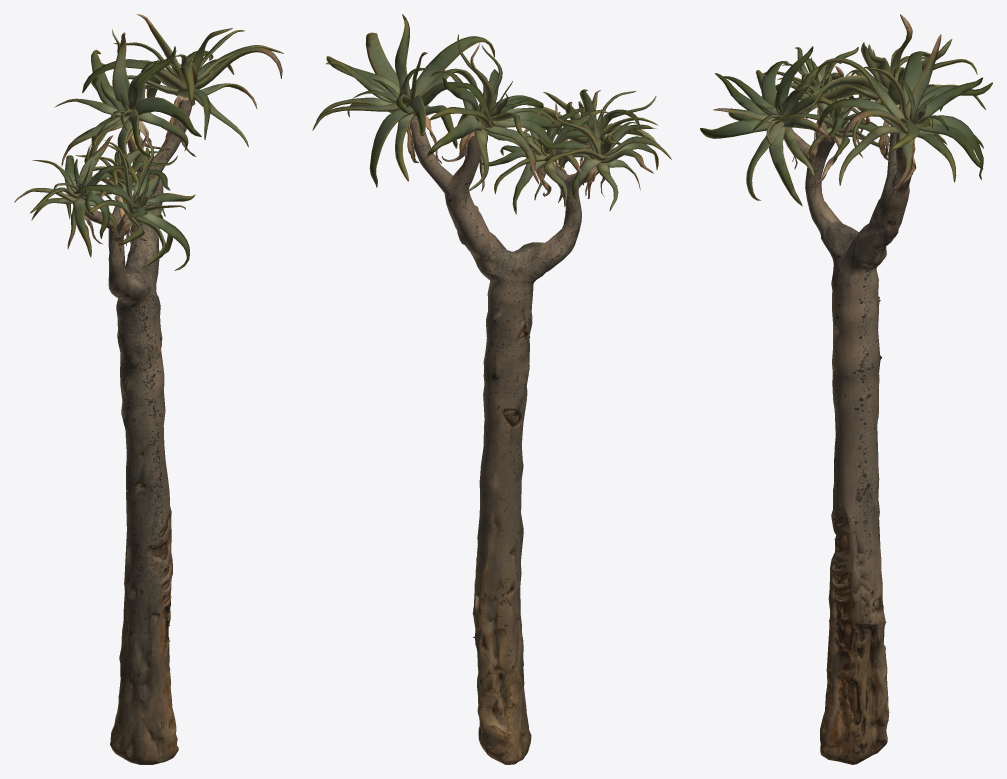
The model's file is desert_hero_quiver_a.glb.
3 views of the same model, side by side, from view 1: azimuth 30°, elevation 25°; view 2: azimuth 150°, elevation 25°; view 3: azimuth 270°, elevation 25° (orthographic). The views are drawn at different scales.
Visible parts, largest first — view 1: quiver_tree_01; view 2: quiver_tree_01; view 3: quiver_tree_01.
Part boxes in pixels (x1,y1,x2,y2): quiver_tree_01: [14, 14, 283, 764]; quiver_tree_01: [312, 14, 671, 764]; quiver_tree_01: [700, 14, 992, 764].
Bounding box in the file's own units: 1.18 × 2.72 × 0.9676.
2 materials, 2 textured.
